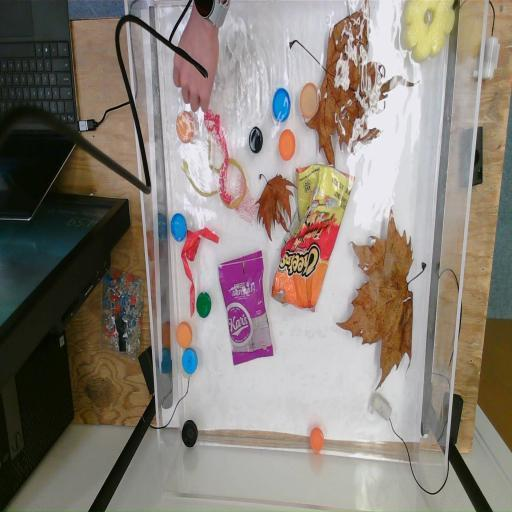Bottle Cap: (299, 82, 321, 120), (179, 417, 201, 450), (272, 86, 292, 122), (176, 110, 196, 144), (170, 210, 187, 246), (278, 128, 296, 160), (181, 347, 198, 375), (176, 320, 193, 348), (248, 126, 264, 154), (196, 291, 212, 318), (309, 426, 324, 454)
Cone Cap: (186, 226, 200, 260)
Leaf: (304, 8, 411, 168), (336, 206, 416, 392), (256, 170, 300, 240)
Netting: (205, 111, 233, 206), (232, 176, 260, 226)
Plastic Bag: (270, 165, 356, 313), (217, 250, 273, 366)
Plastic Strand: (180, 138, 246, 212), (183, 228, 219, 316)
Sponge: (403, 0, 456, 63)
